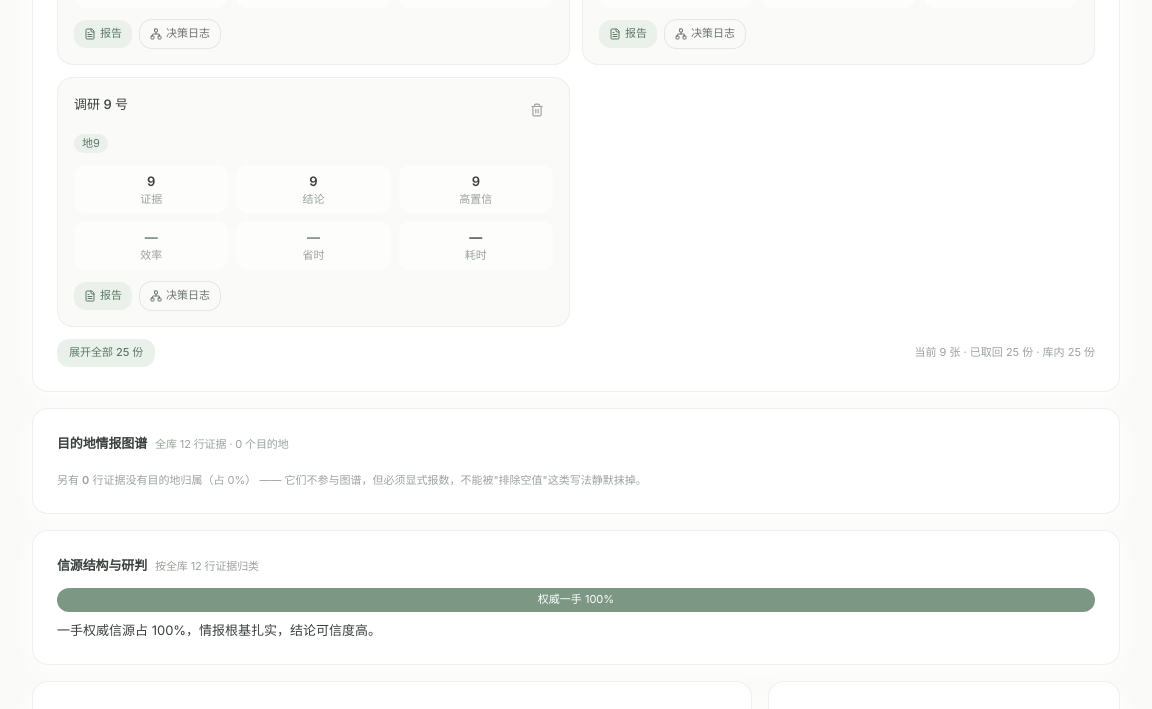
Test: 调研屏 · 概览卡默认只画 9 张且把截断写在脸上 › 25 份 → 屏上恰 9 张 + 说明 + 「展开全部 25 份」，点开后 25 张
(page scrolled)
Expected: the link "调研 9 号" is shown, [74,94,128,115]
Click the button "展开全部 25 份". click: x=106, y=352
box: [57,338,155,366]
(page scrolled)
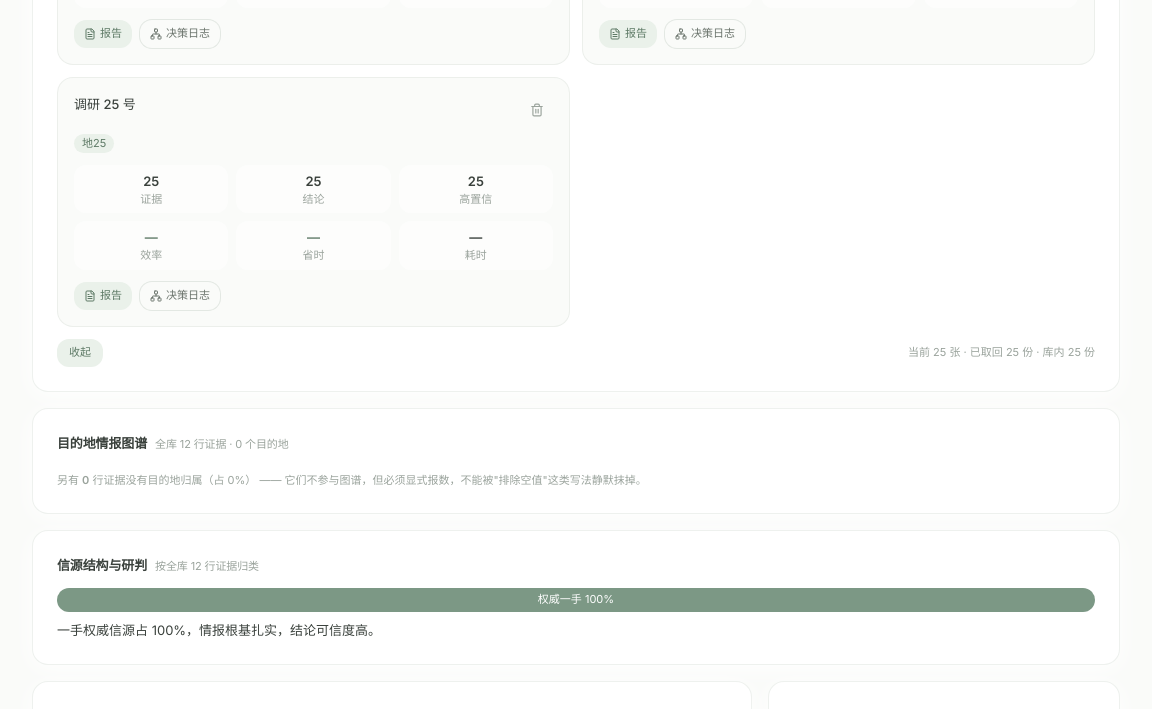
Expected: the link "调研 25 号" is shown, [74,94,136,115]
Expected: the text "当前 25 张 · 已取回 25 份 · 库内 25 份" is shown, [908,345,1095,360]
